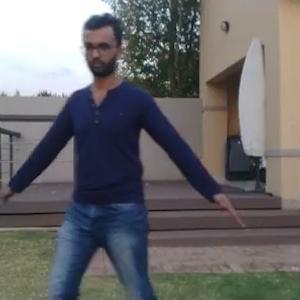land: (18, 30, 248, 299)
